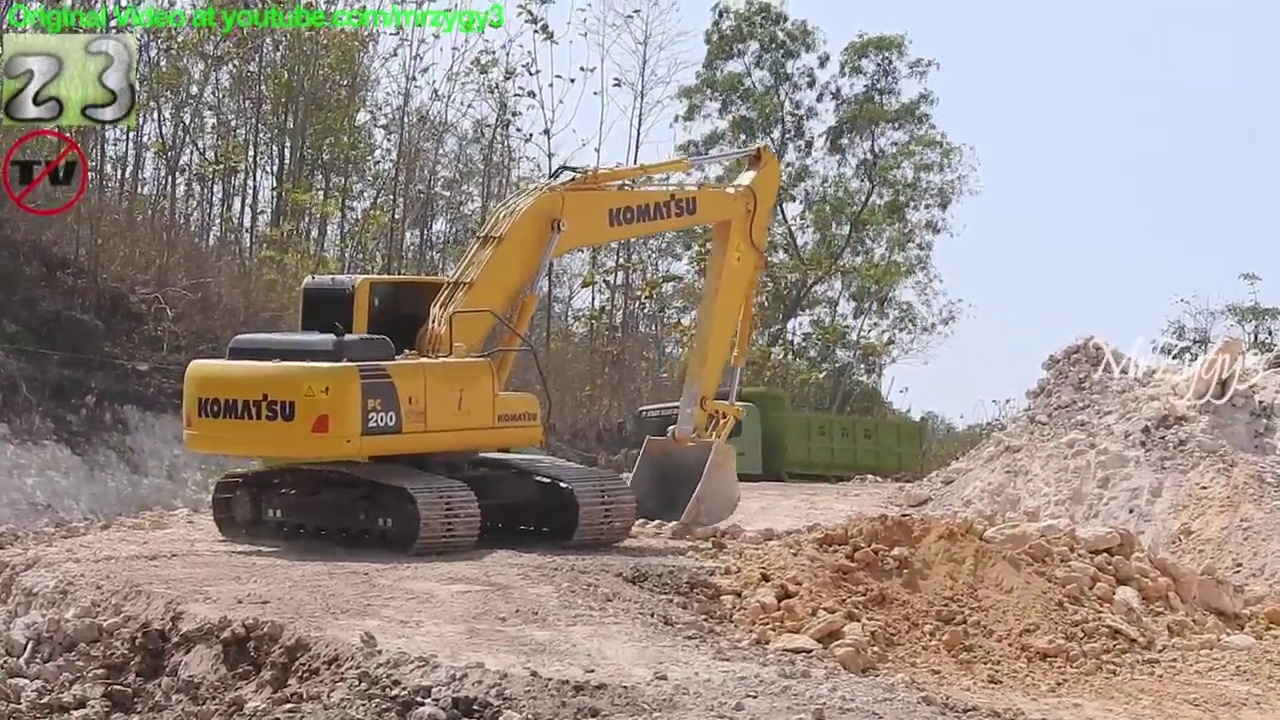excavator: (174, 138, 788, 564)
truck: (630, 383, 936, 527)
